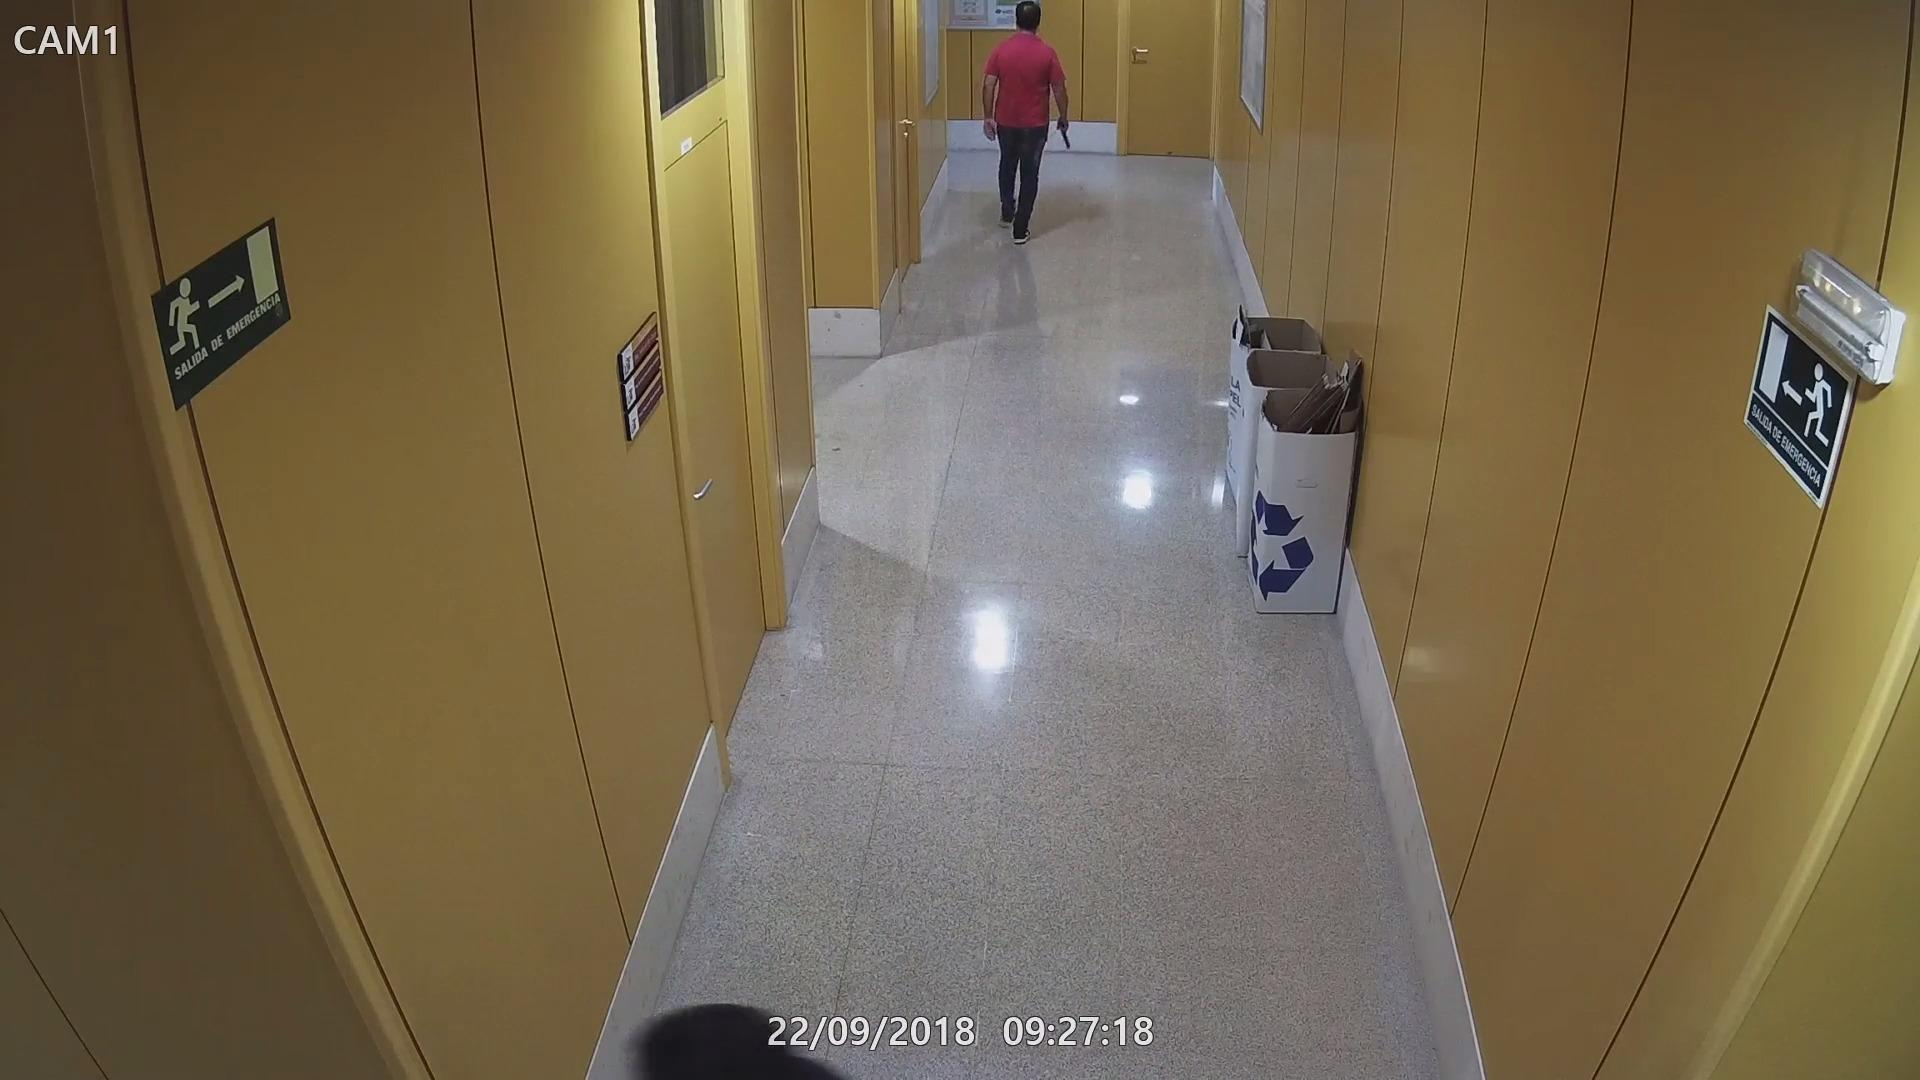Handgun: (1051, 115, 1077, 152)
